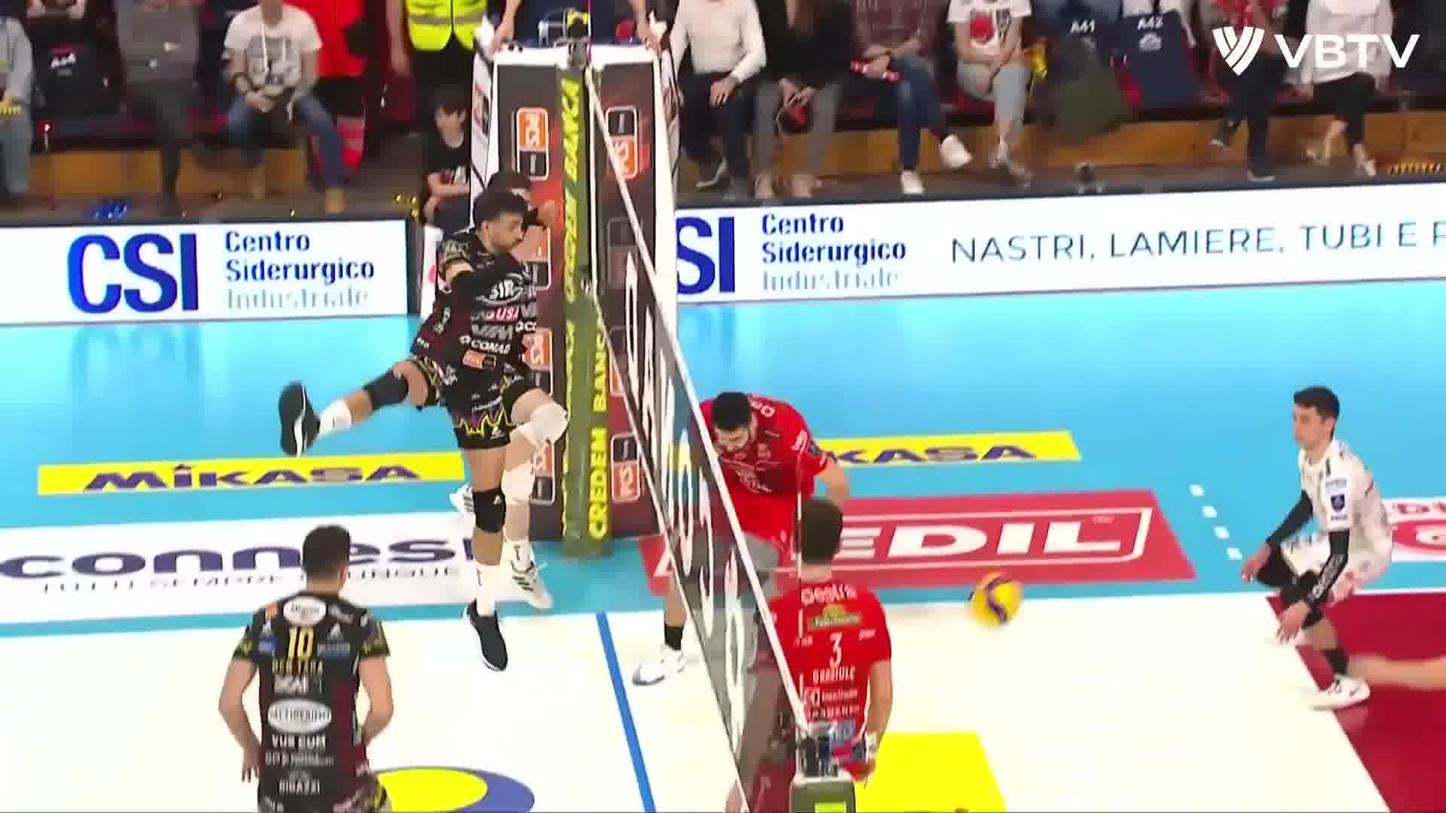balls: (969, 574, 1022, 623)
